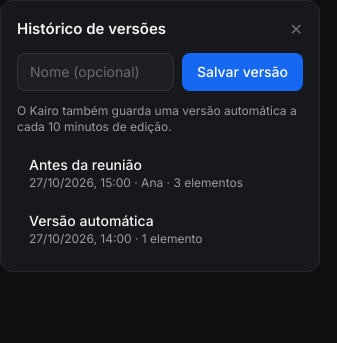
Test case: BoardVersionsPanel › salva versão com nome e esconde o formulário de quem só vê
The width and height of the screenshot is (337, 343).
Type "  Entrega 1 " into the field named "Nome da versão".
click(96, 72); type("  Entrega 1 ")  # box left=17, top=53, right=174, bottom=91
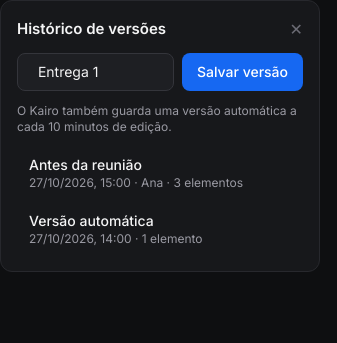
Submit the form, box left=17, top=53, right=303, bottom=91
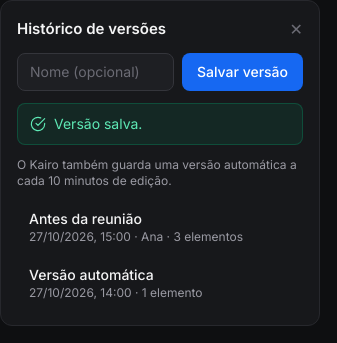
Now the text "Versão salva." is shown, box left=54, top=114, right=142, bottom=134
